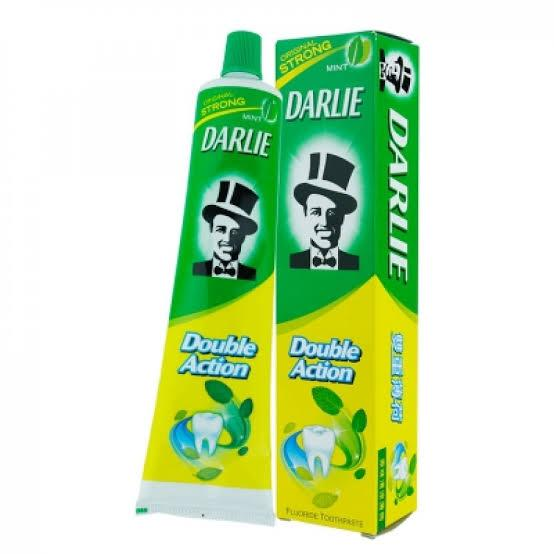toothpaste: (154, 12, 286, 528)
